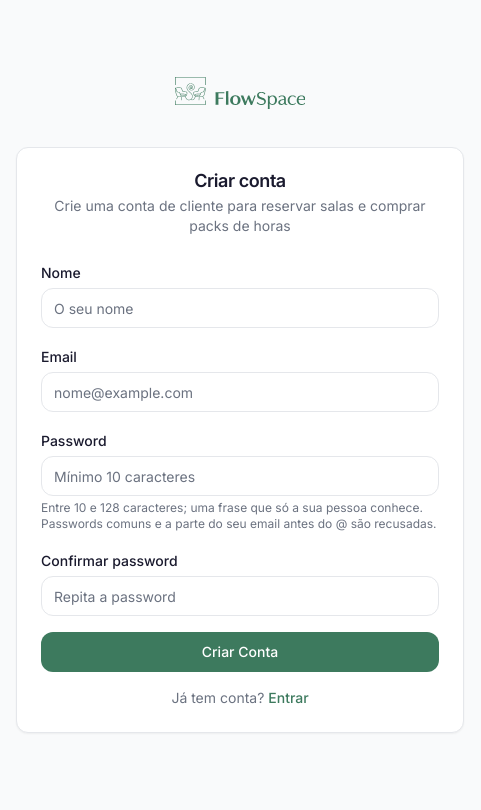
Scenario: Customer signup failures › offers sign-in recovery after rejected automatic sign-in
The image size is (481, 810).
Type "Test User" into the field labelled "Nome".
click(240, 308); type("Test User")  # box 41,288 -> 439,328
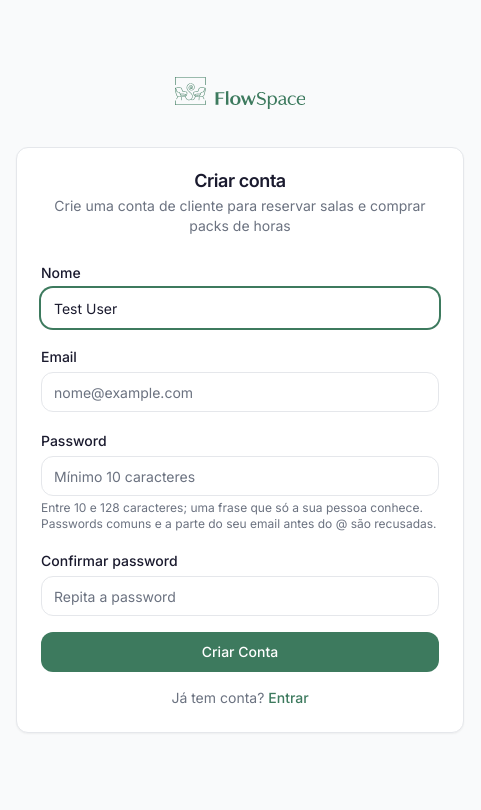
Type "test@example.com" into the field labelled "Email".
click(240, 392); type("test@example.com")  # box 41,372 -> 439,412
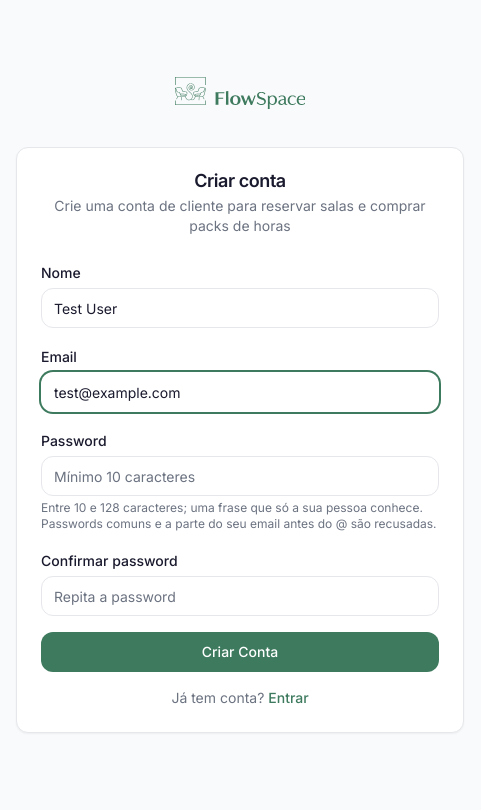
Type "password123" into the password field labelled "Password".
click(240, 476); type("password123")  # box 41,456 -> 439,496
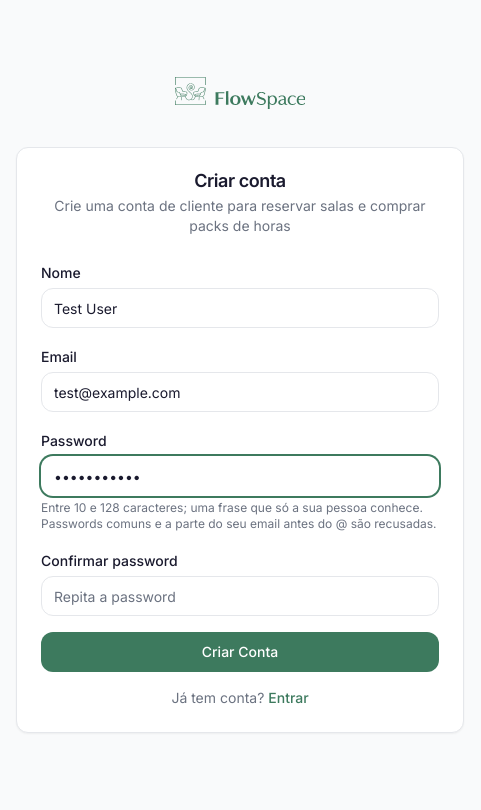
Type "password123" into the password field labelled "Confirmar password".
click(240, 596); type("password123")  # box 41,576 -> 439,616
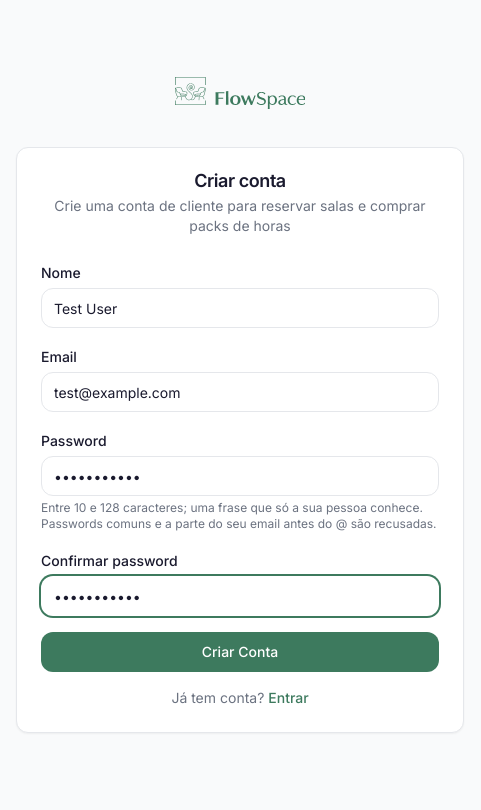
Click the button "Criar Conta".
click(240, 652)  # box 41,632 -> 439,672
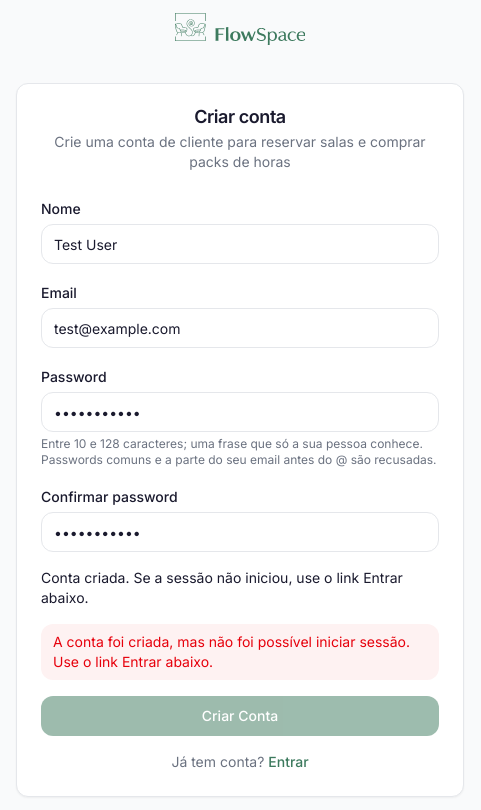
Now the message "Conta criada. Se a sessão não iniciou, use o link Entrar abaixo." is shown, box 41,568 -> 439,608
Now the button "Criar Conta" is disabled, box 41,696 -> 439,736
